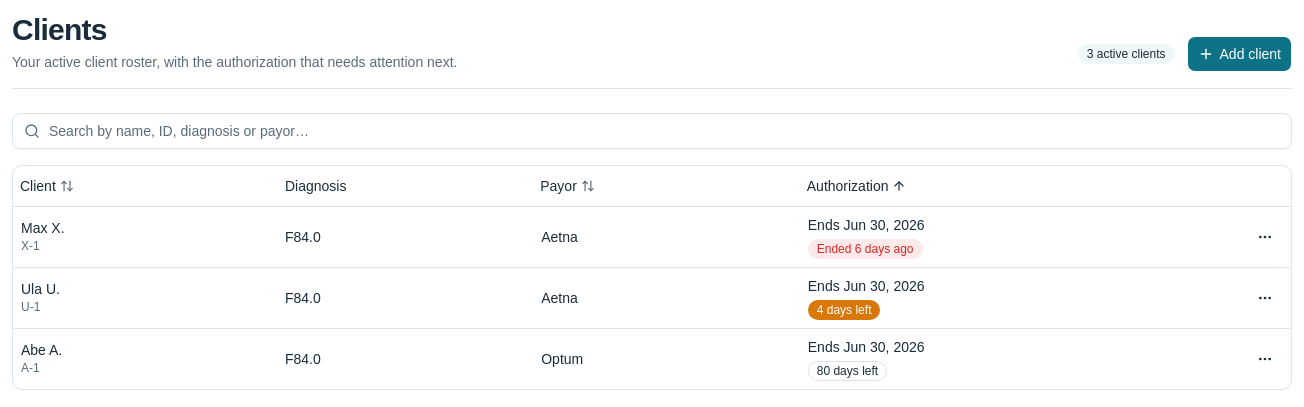
Clients page › searches across name, ID, diagnosis and payor, and says how many matched
The width and height of the screenshot is (1304, 407).
Check: the text "3 active clients" is shown, box [1078,44,1174,64]
Type "optum" into the field named "Search clients" at (652, 131), box [12,113,1292,149]
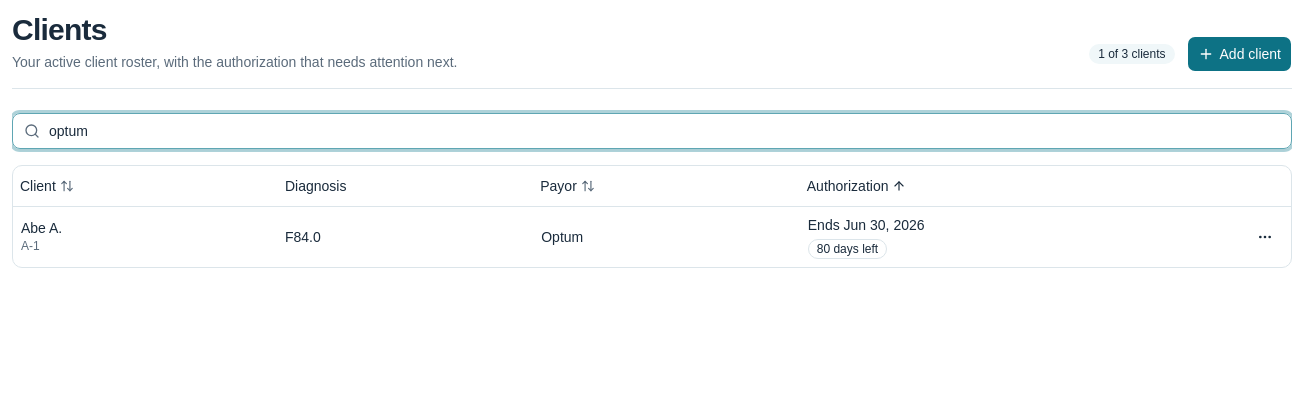
Check: the button "Abe A. A-1" is shown, box [21,218,62,254]
Check: the text "1 of 3 clients" is shown, box [1089,44,1174,64]
Clear the field named "Search clients" at (652, 131), box [12,113,1292,149]
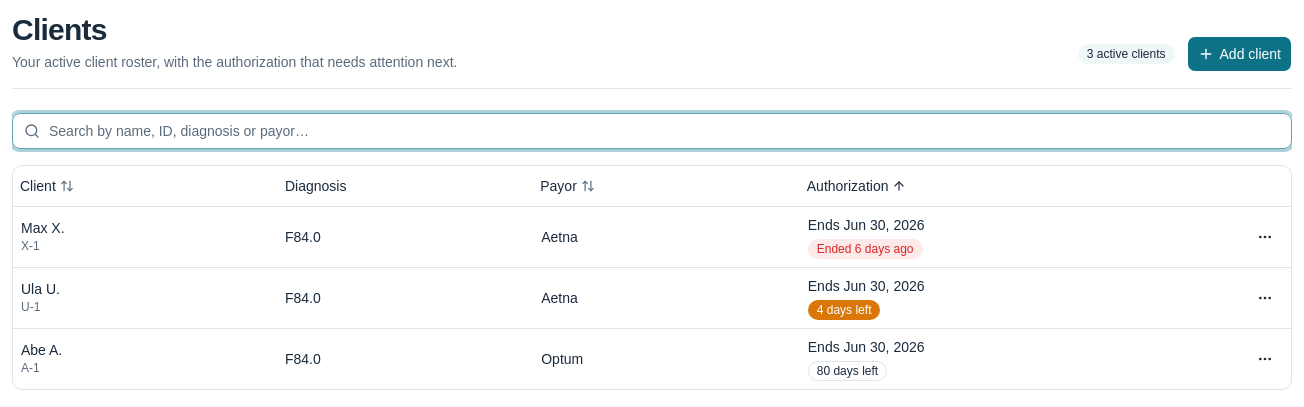
Check: the text "3 active clients" is shown, box [1078,44,1174,64]
